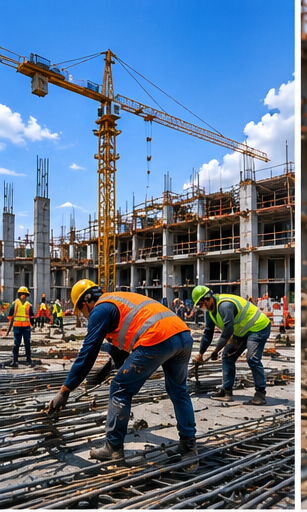crane: (12, 28, 274, 304)
hardhat: (62, 279, 95, 302), (15, 285, 37, 302), (192, 284, 208, 305)
person: (49, 279, 205, 475), (197, 277, 290, 423), (4, 277, 46, 377), (36, 295, 67, 334)
safety_vest: (96, 288, 177, 348), (211, 293, 274, 338), (14, 299, 32, 328), (55, 304, 63, 316)
